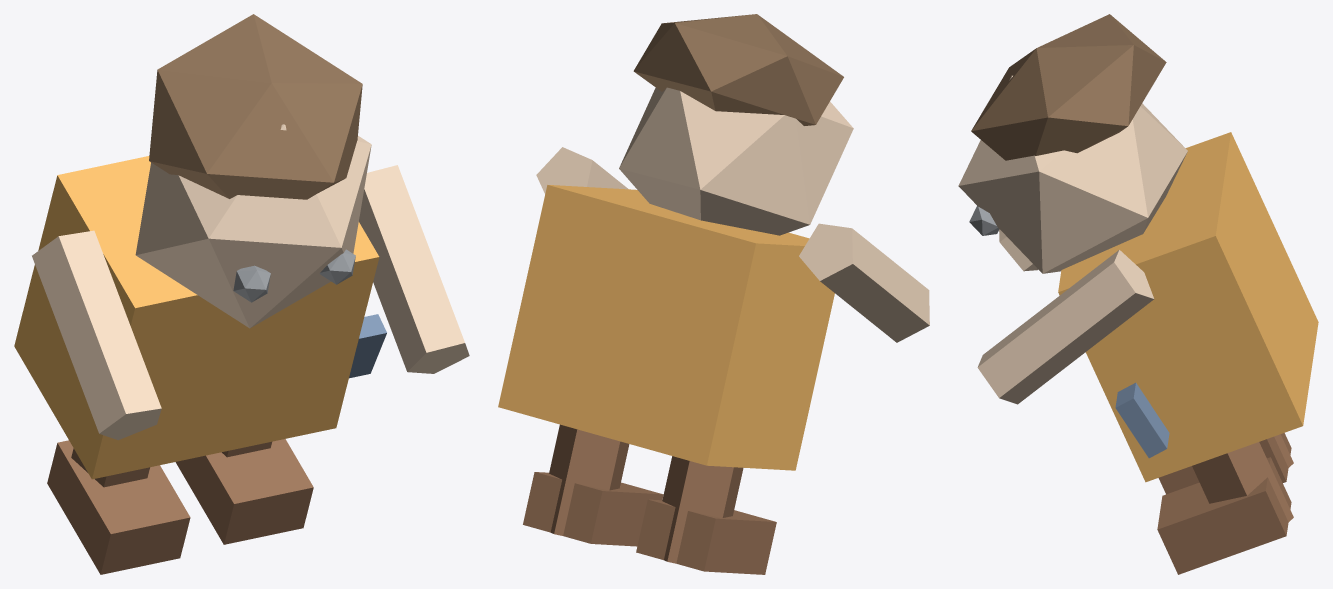
File: npcpose_villager_walk_09.glb
The picture shows the model from 3 angles, left to right: view 1: azimuth 30°, elevation 25°; view 2: azimuth 150°, elevation 25°; view 3: azimuth 270°, elevation 25°; orthographic projection. The views are drawn at different scales.
Visible parts, largest first — view 1: npcpose; view 2: npcpose; view 3: npcpose.
Part boxes in pixels (left/top/right/bottom): npcpose: left=14, top=14, right=469, bottom=574; npcpose: left=498, top=14, right=929, bottom=574; npcpose: left=958, top=14, right=1318, bottom=574.
Bounding box in the file's own units: 0.7123 × 1.02 × 0.6723.
